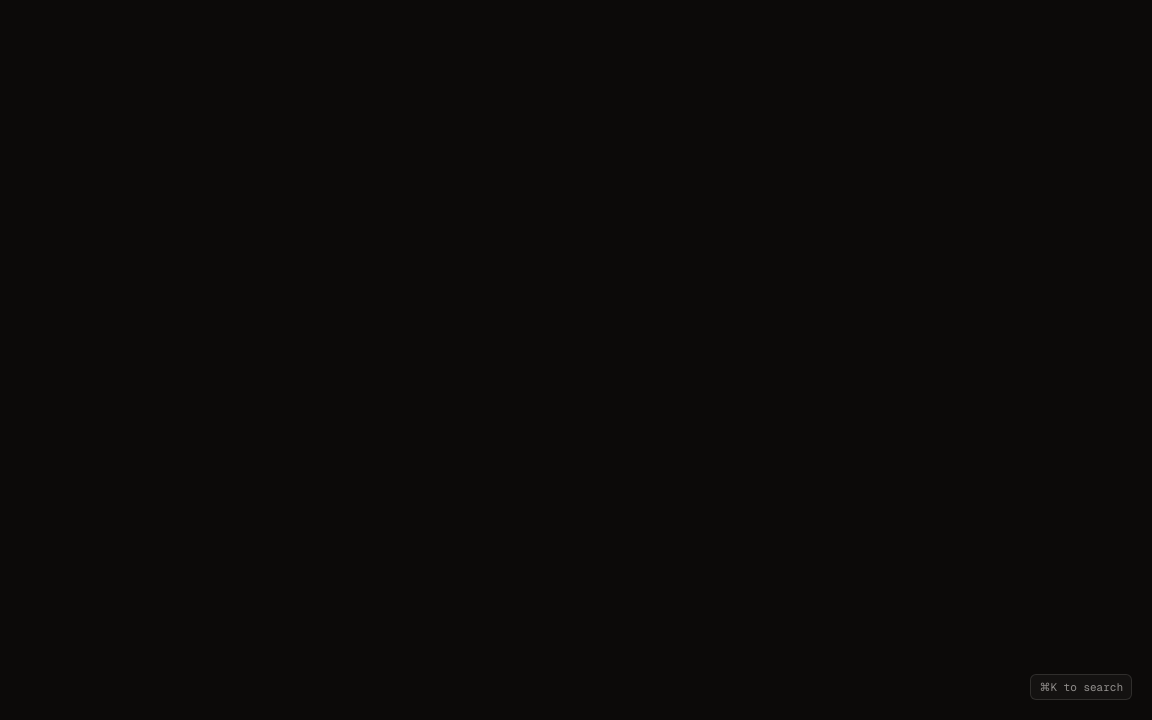
Scenario: CommandPalette › renders an empty state when nothing matches
Press k
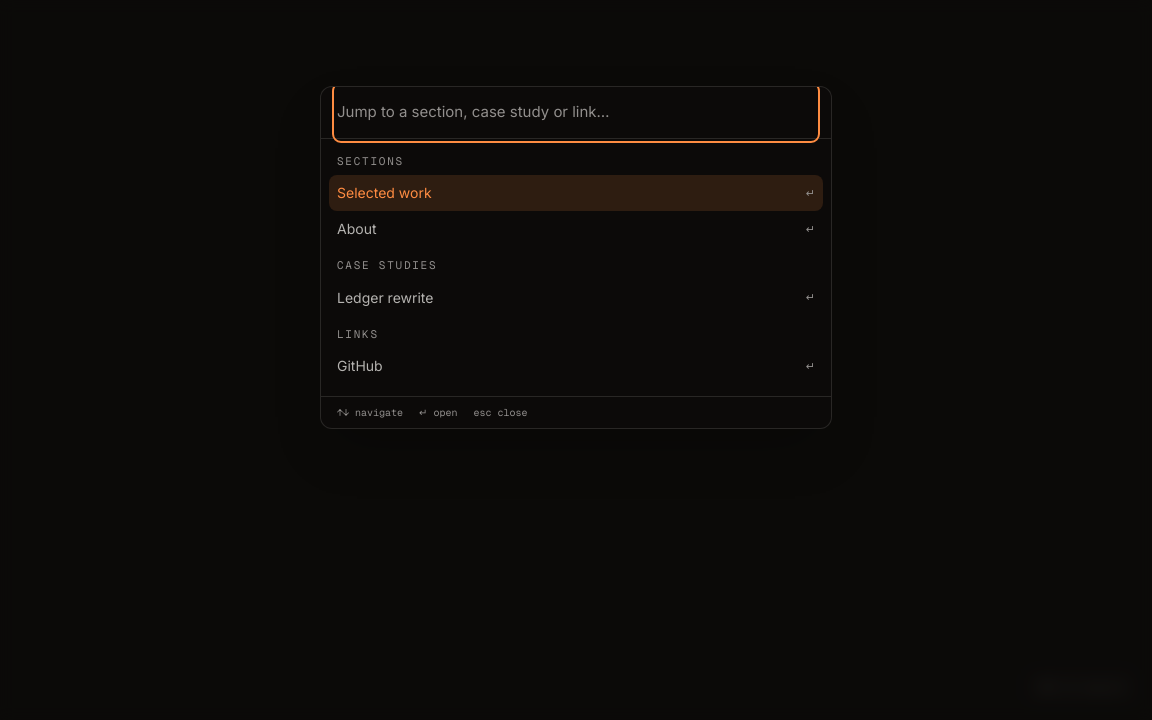
Type "zzzzqqq" into the dropdown at [576, 113], box x1=337 y1=87 x2=815 y2=138
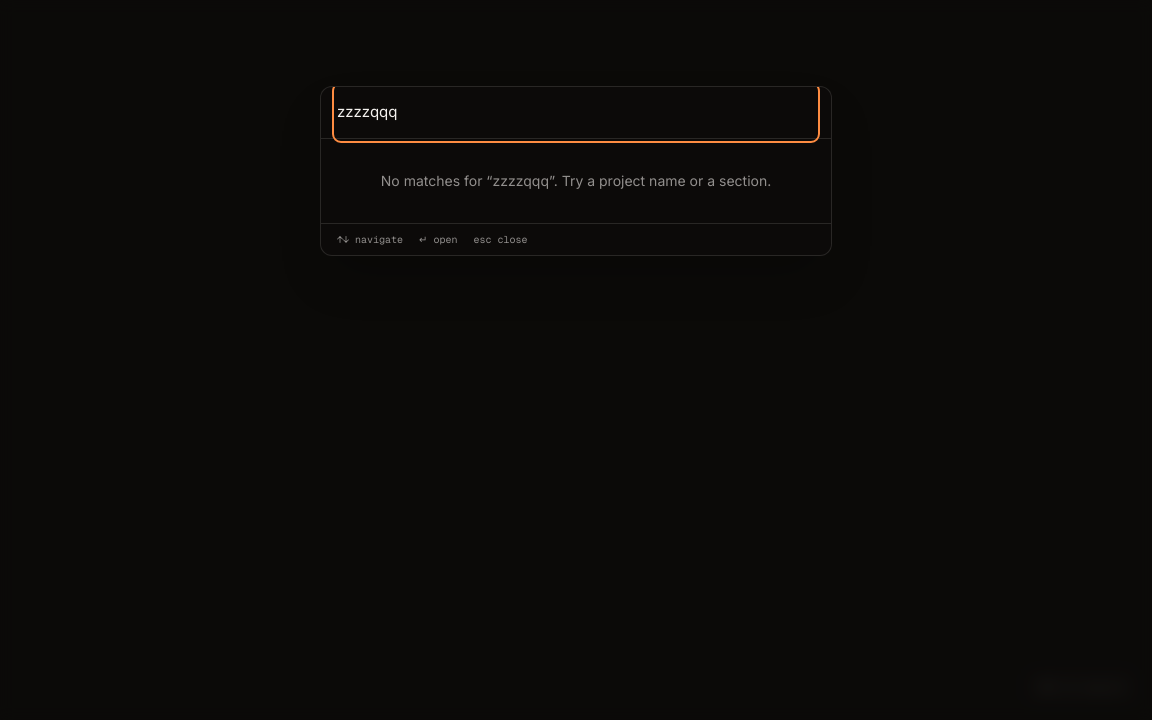
Now no options are shown
Now the text "No matches for “zzzzqqq”. Try a project name or a section." is shown, box x1=381 y1=172 x2=771 y2=189
